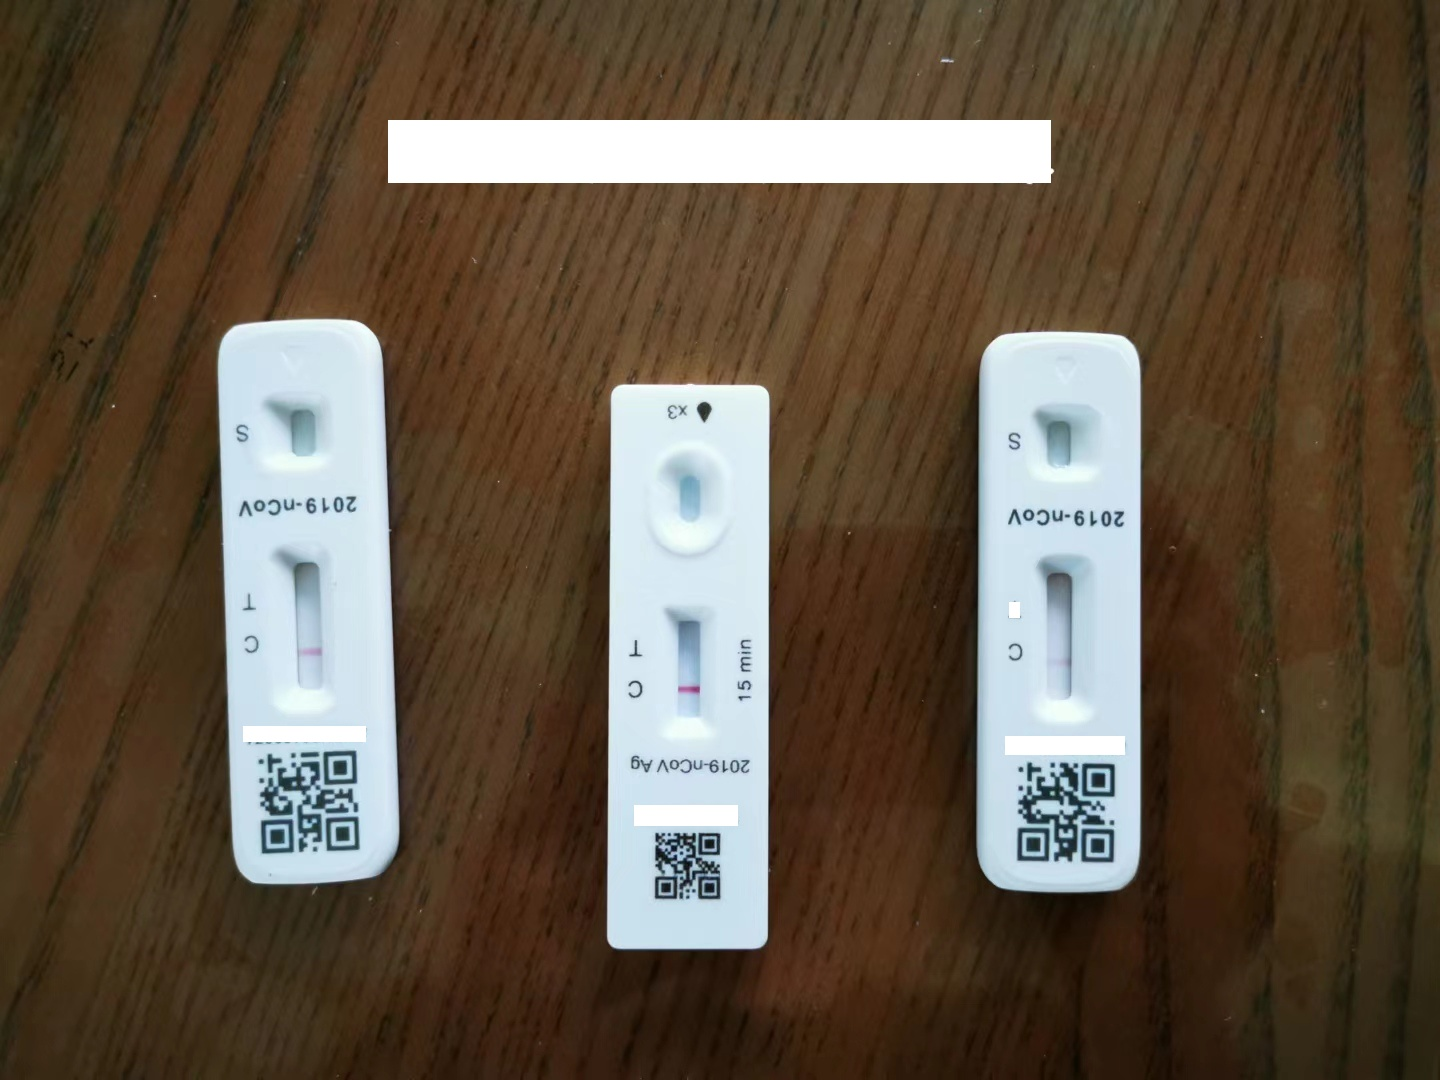negative: (1035, 549, 1094, 720), (278, 547, 332, 709), (664, 606, 715, 735)
